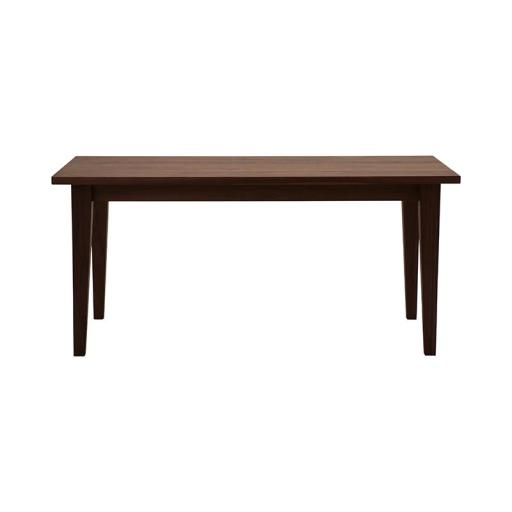table: (50, 149, 465, 369)
